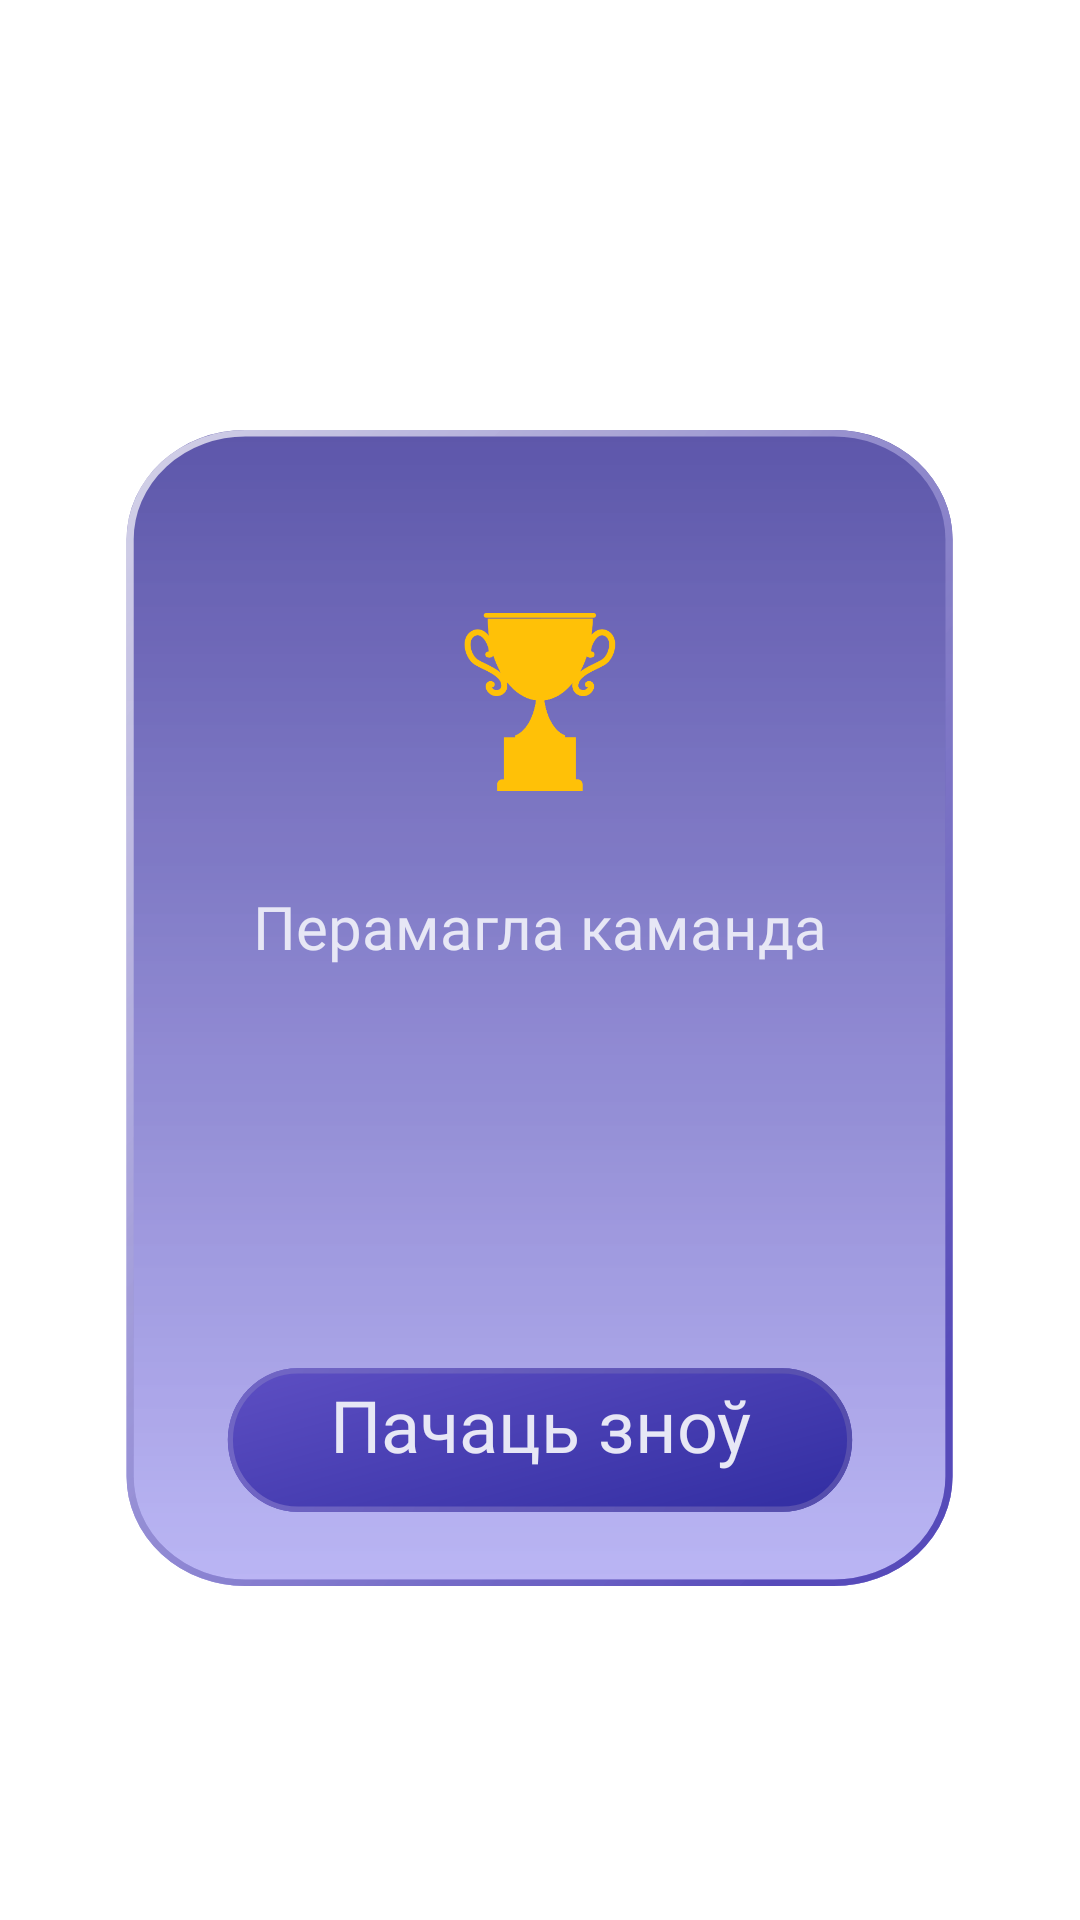

Locate icon controls on the screen. Image size 1080 x 1920, boxes as {"left": x1, "top": y1, "right": x2, "bottom": y2}.
trophy cup: {"left": 464, "top": 613, "right": 616, "bottom": 791}
